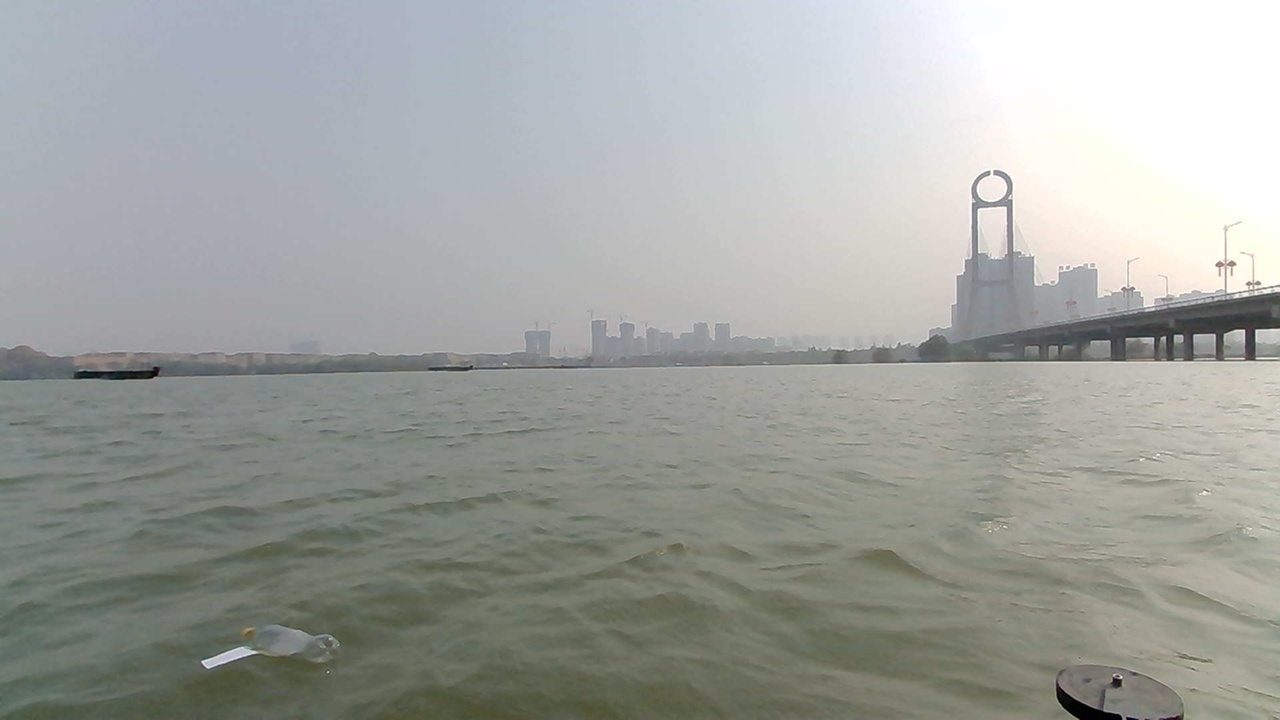bottle: (190, 615, 347, 686)
